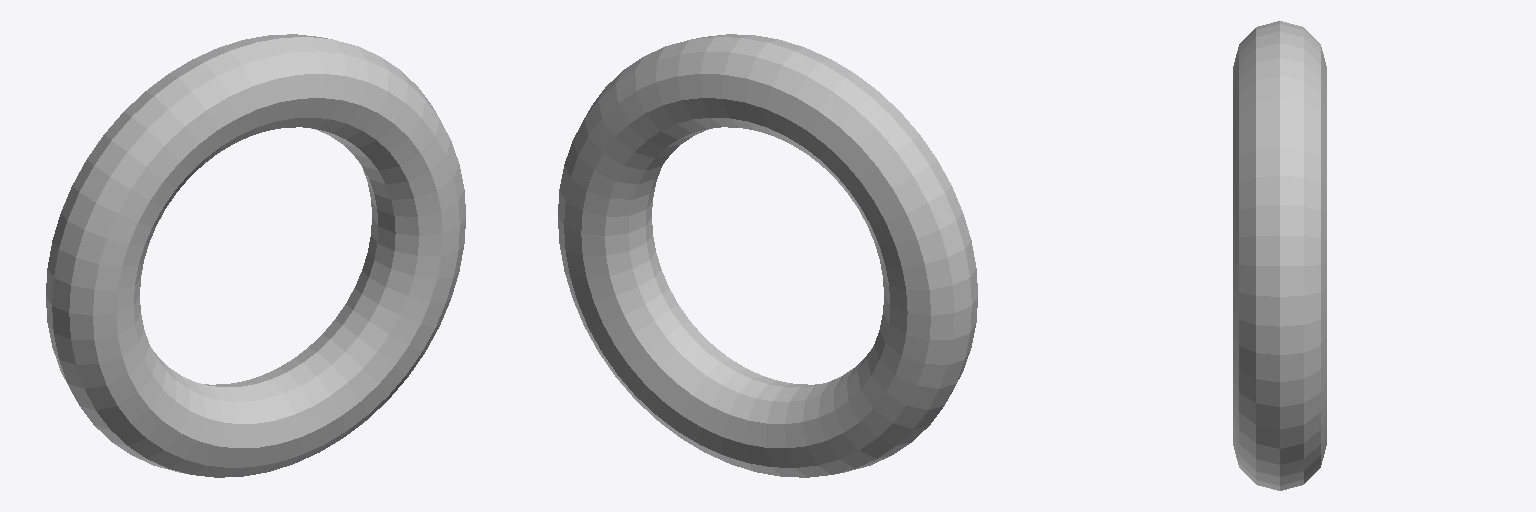
Rendered from pointer.obj.
The picture shows the model from 3 angles: view 1: azimuth 30°, elevation 25°; view 2: azimuth 150°, elevation 25°; view 3: azimuth 270°, elevation 25°; orthographic projection.
Parts seen in each view (by area): view 1: Torus; view 2: Torus; view 3: Torus.
Boxes of the visible parts, box(x1,y1,x2,y2) form: Torus: box(46, 34, 465, 477); Torus: box(558, 34, 977, 477); Torus: box(1233, 21, 1326, 490).
Bounding box in the file's own units: 0.7719 × 0.7719 × 0.1544.